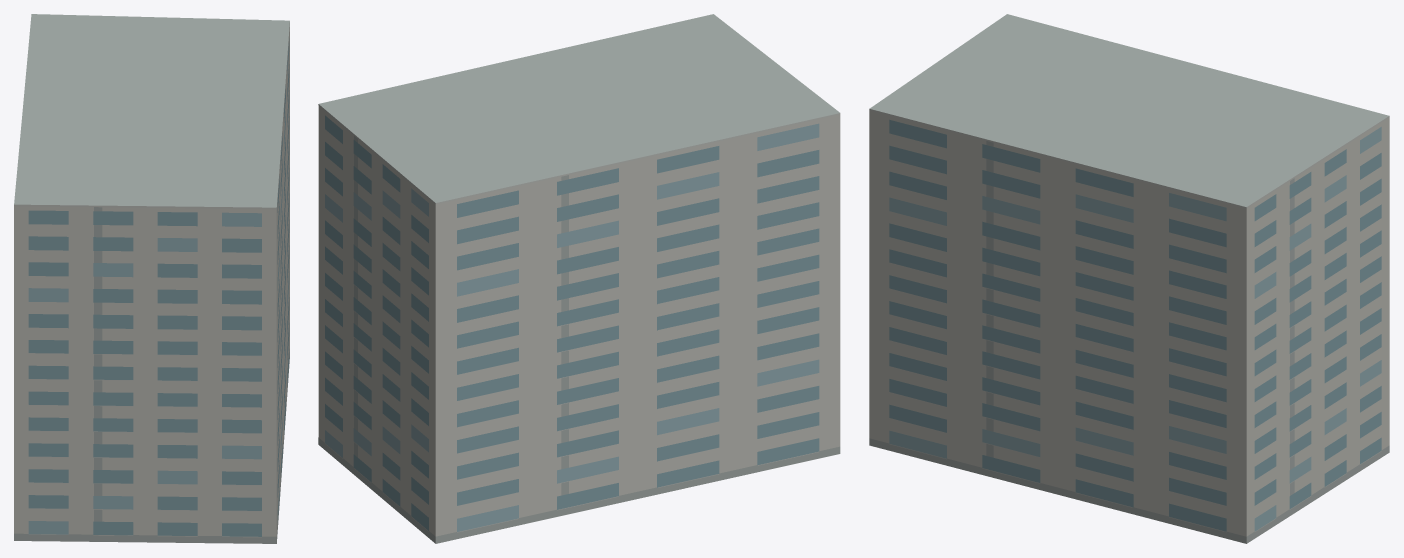
Rendered from survey-upis-32996369.glb.
3 views of the same model, side by side, from view 1: azimuth 30°, elevation 25°; view 2: azimuth 150°, elevation 25°; view 3: azimuth 270°, elevation 25° (orthographic).
Parts seen in each view (by area): view 1: survey-upis-32996369.tmp; view 2: survey-upis-32996369.tmp; view 3: survey-upis-32996369.tmp.
Boxes of the visible parts, x1=… form: survey-upis-32996369.tmp: x1=14, y1=14, x2=289, y2=543; survey-upis-32996369.tmp: x1=318, y1=14, x2=840, y2=543; survey-upis-32996369.tmp: x1=869, y1=14, x2=1389, y2=543.
Size of the model in its own units: 64.74 by 52.6 by 73.65.
